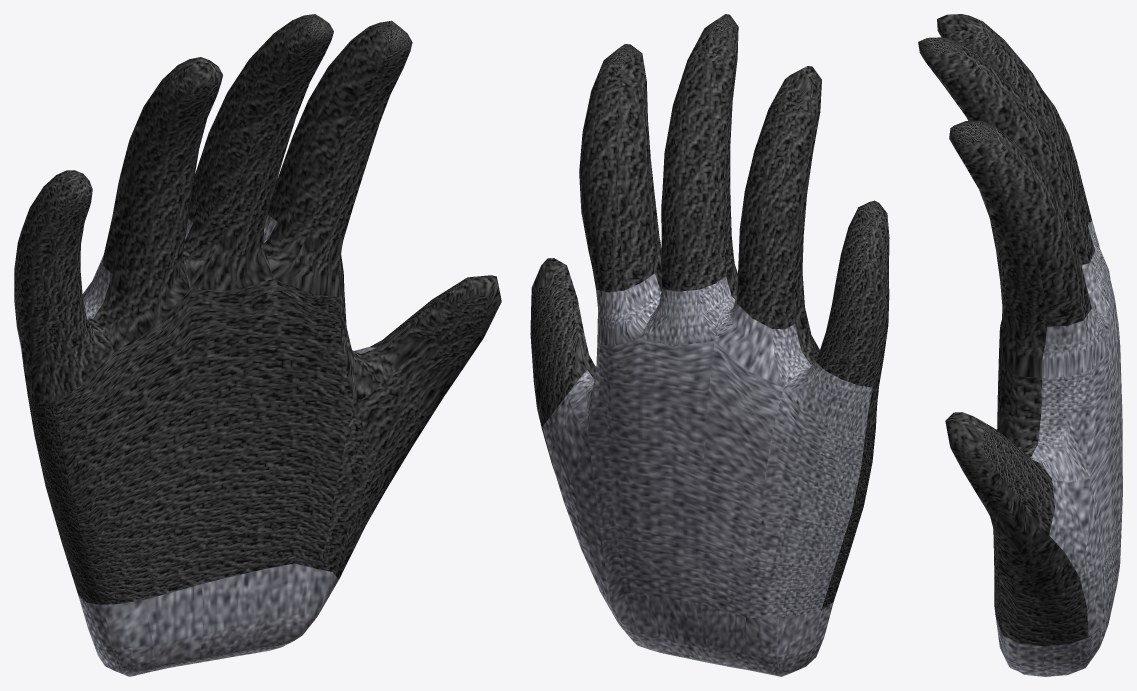
File: mechanicGlove.fbx
3 renders of one model, left to right at view 1: azimuth 30°, elevation 25°; view 2: azimuth 150°, elevation 25°; view 3: azimuth 270°, elevation 25°, orthographic. The views are drawn at different scales.
Parts seen in each view (by area): view 1: Hand; view 2: Hand; view 3: Hand.
Part boxes in pixels (bbox=[...]): Hand: bbox=[14, 14, 501, 676]; Hand: bbox=[530, 14, 889, 676]; Hand: bbox=[918, 14, 1122, 676].
Bounding box in the file's own units: 306 × 449 × 131.
Materials: 1 (1 with a texture image).
